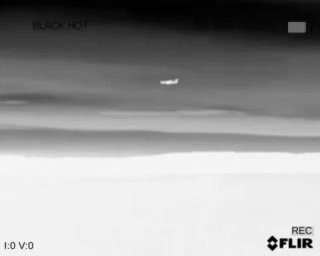AIRPLANE: (158, 75, 181, 88)
